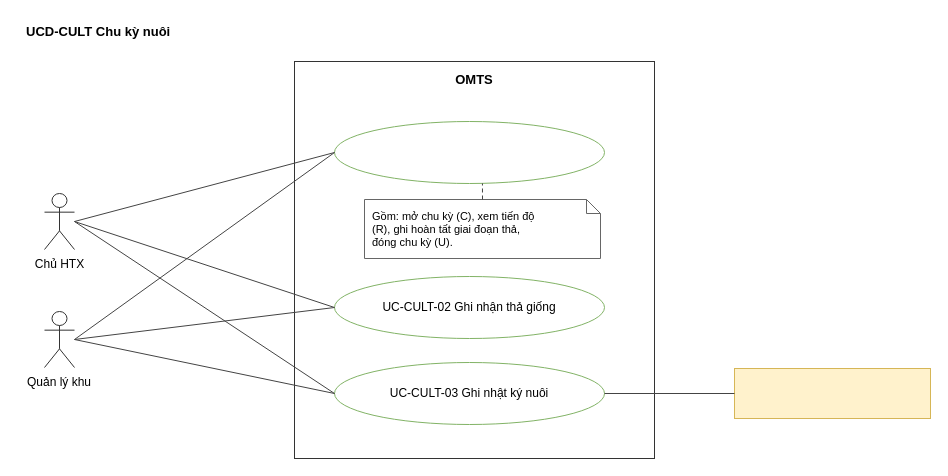
This 948x476 diagram has some shape labels left out. The centre of each missing label's shape, as x and y in pixels:
"UC-CULT-01 Quản lý chu kỳ nuôi" goes at (x=469, y=152).
"«system» Dịch vụ lưu trữ đám mây" goes at (x=832, y=393).
